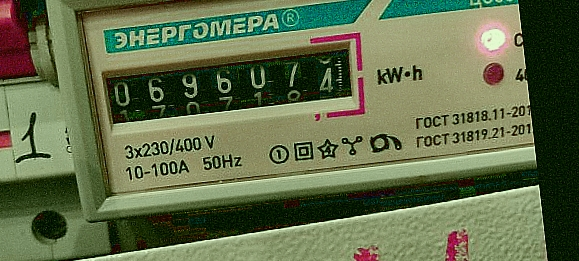0: (111, 77, 133, 108), (246, 60, 268, 89)
4: (315, 65, 336, 95)
6: (213, 64, 234, 94), (145, 74, 166, 103)
7: (281, 56, 303, 88)
9: (179, 70, 200, 100)
screen: (88, 27, 375, 145)
